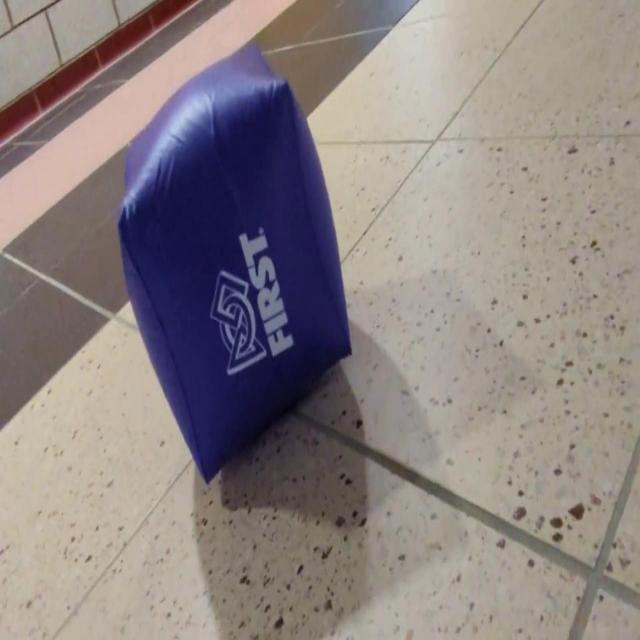frc_cube: (115, 42, 352, 484)
